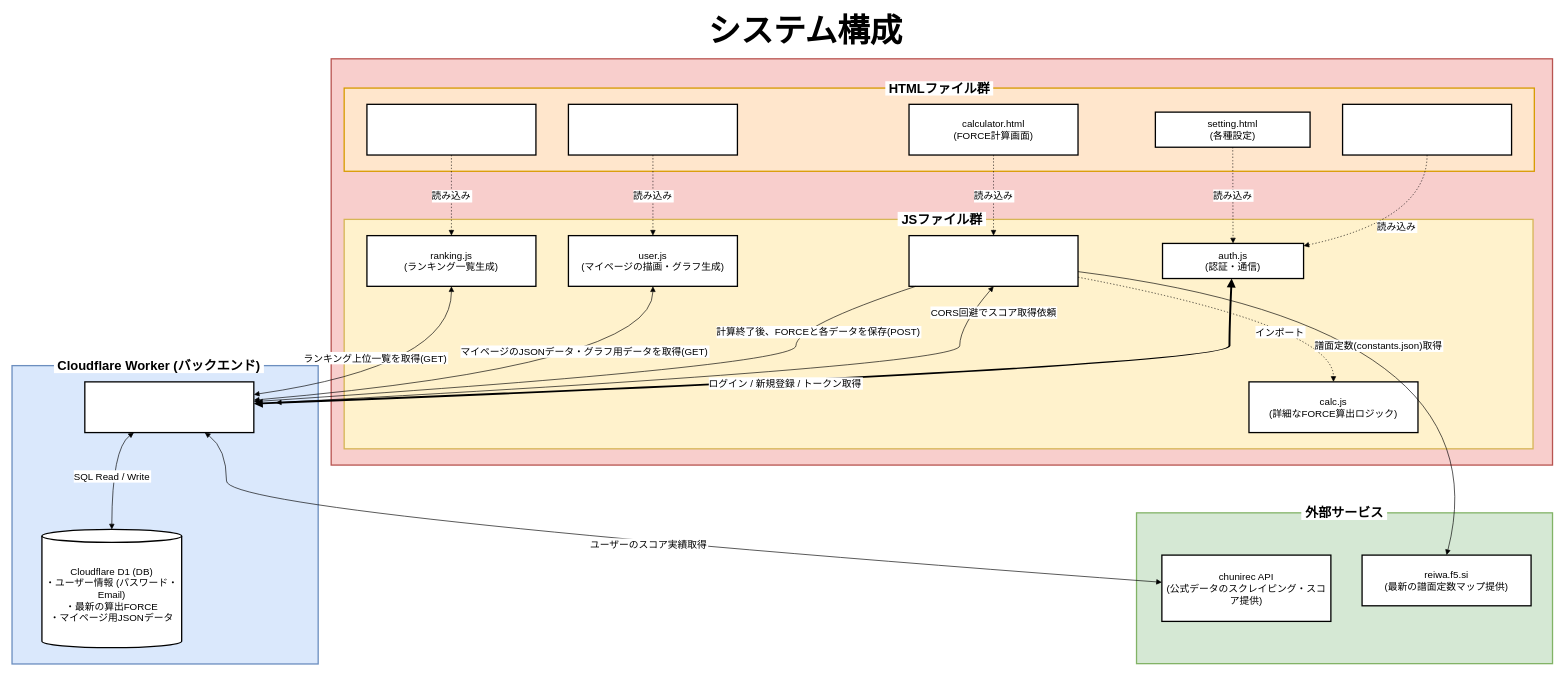
Image size: 1564x675. Some labels were removed from this diagram. The centre of each missing label's shape, as x and y in pixels:
chunirec-proxy API (CORS回避・独自APIサーバー): (169,407)
index.html (トップ / 総合入口): (1427,129)
main.js (統合計算・メイン処理): (993,261)
ranking.html (ランキング画面): (451,129)
user/index.html (マイページ表示): (652,129)
